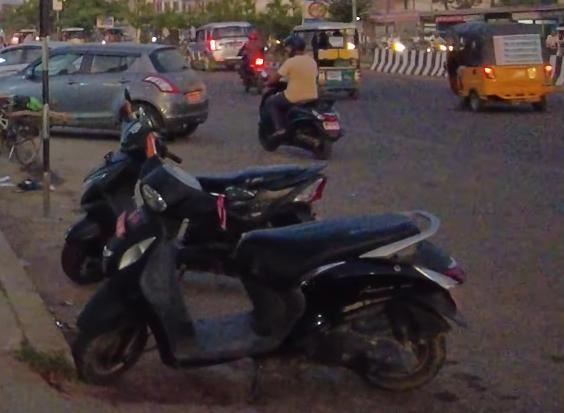SUV: (185, 19, 255, 73)
auto_rickshaw: (440, 17, 553, 117)
car: (0, 42, 209, 139)
e-rickshaw: (295, 22, 361, 98)
scooter: (64, 144, 466, 393), (56, 105, 325, 271), (257, 67, 347, 157)
